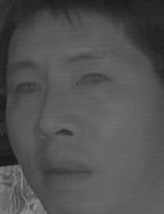eye: (75, 67, 113, 94), (10, 81, 43, 101)
mouth: (36, 153, 97, 188)
